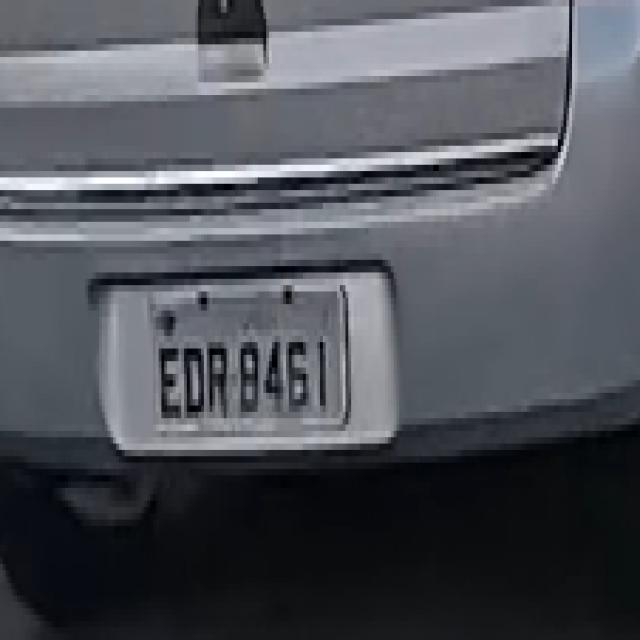Placa_mercosul_carro: (149, 282, 350, 437)
